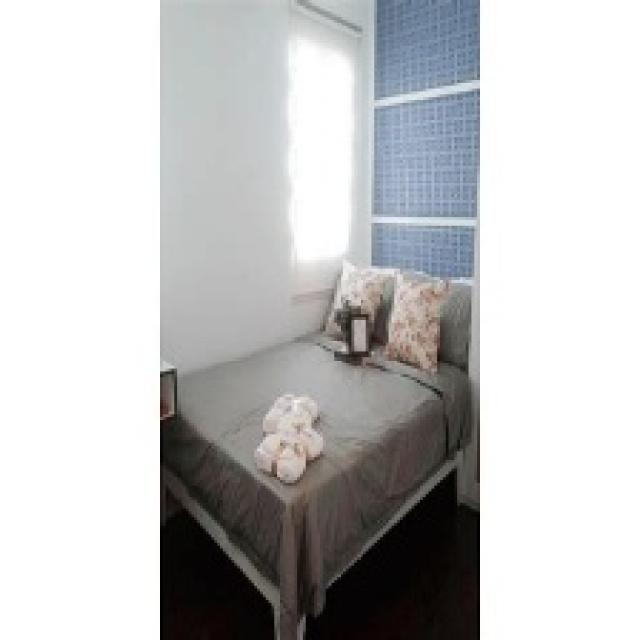Bed: (160, 274, 471, 637)
